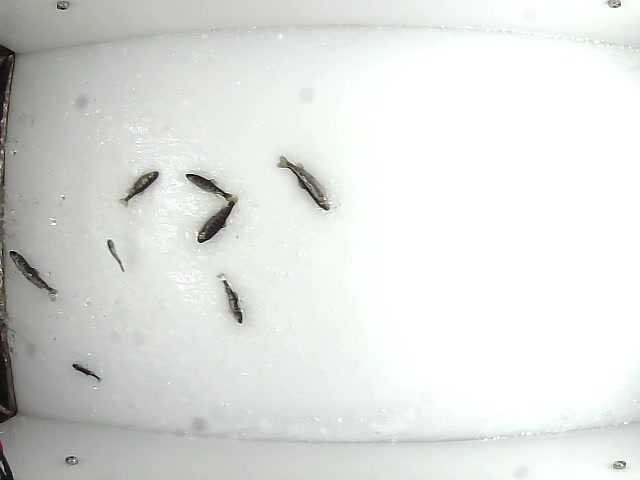fish: (273, 153, 333, 217), (6, 248, 61, 302), (194, 196, 239, 246), (184, 171, 237, 204), (215, 269, 244, 326), (118, 169, 159, 208), (104, 238, 125, 275), (70, 362, 103, 385)
